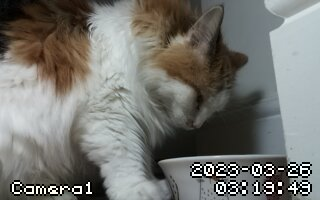clara: (3, 1, 252, 200)
